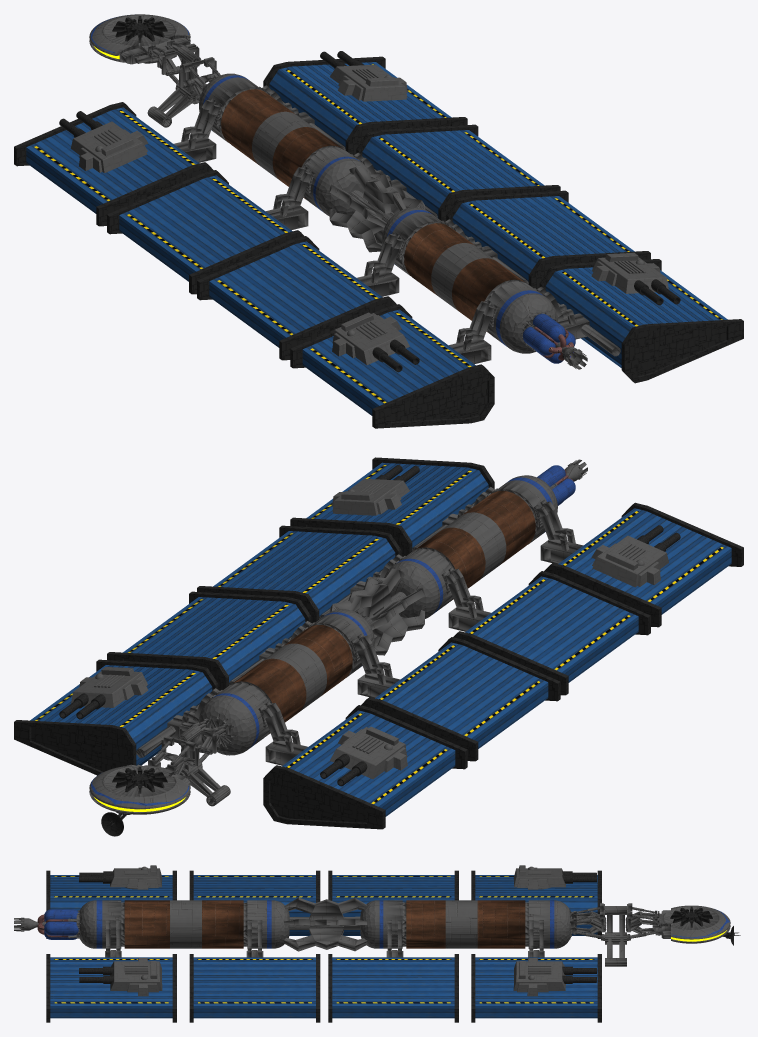
The model's file is raider-freighter.glb.
3 renders of one model, top to bottom at view 1: azimuth 30°, elevation 25°; view 2: azimuth 150°, elevation 25°; view 3: azimuth 270°, elevation 25°, orthographic. The views are drawn at different scales.
Parts seen in each view (by area): view 1: Cube; view 2: Cube; view 3: Cube.
Boxes of the visible parts, <box> form: Cube: <box>14,14,743,428</box>; Cube: <box>14,457,743,836</box>; Cube: <box>14,865,740,1022</box>.
Bounding box in the file's own units: 194 × 44.72 × 432.
9 materials, 7 textured.
